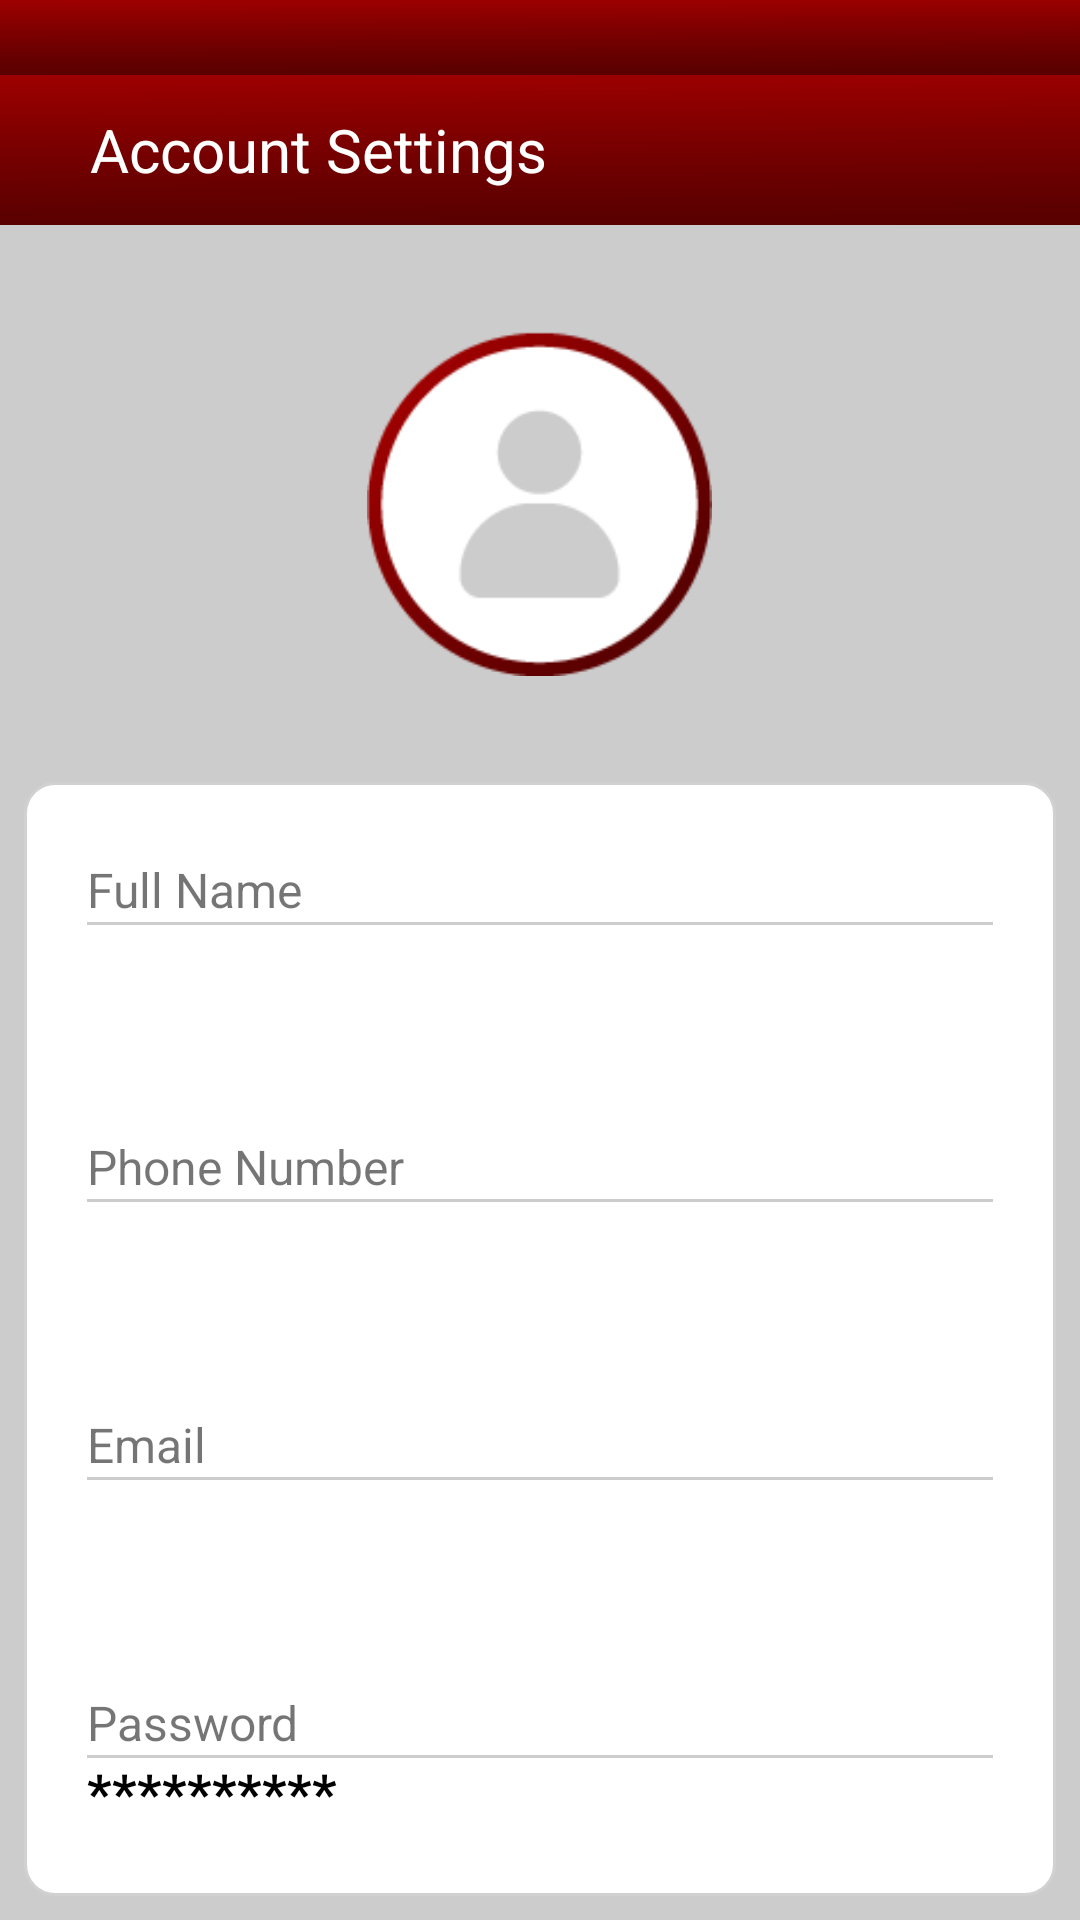

Icon click points for this 1080*1920 phone screenshot, format (x=x, y=y):
demo profile pic: (x=539, y=504)
